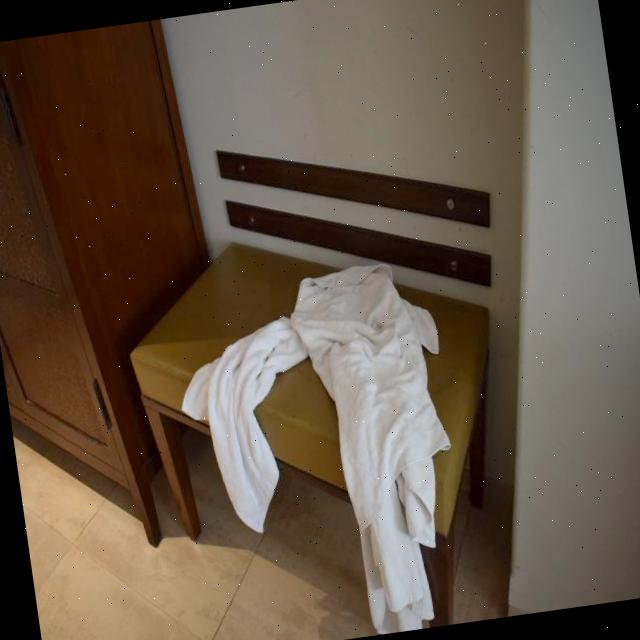disorganized_towel: (181, 264, 456, 631)
